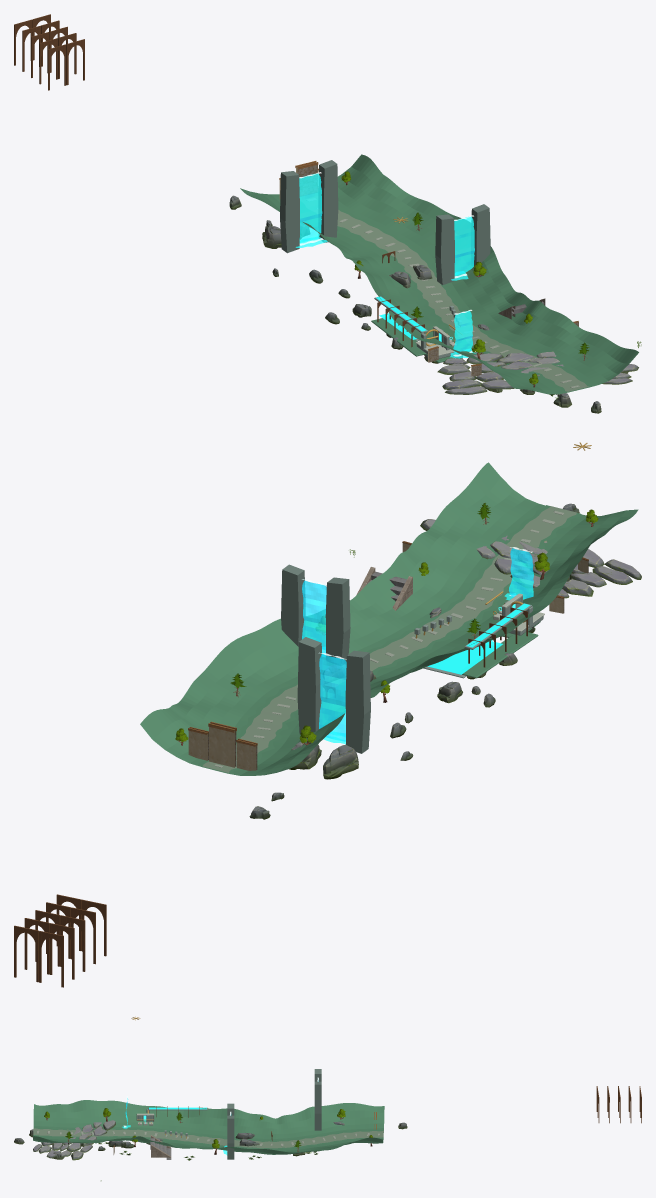
File: premium-waterfall-sanctuary-v2.glb
The picture shows the model from 3 angles, top to bottom: view 1: azimuth 30°, elevation 25°; view 2: azimuth 150°, elevation 25°; view 3: azimuth 270°, elevation 25°; orthographic projection. The views are drawn at different scales.
Visible parts, largest first — view 1: STATIC_BATCH_VALLEY_EARTH, STATIC_BATCH_SANCTUARY_CLIFF_V2, PLAYABLE_NATURAL_TRAIL, RockPath_Round_Wide.001, STATIC_BATCH_Rocks.001, WATERFALL_3, STATIC_BATCH_Rocks, WATERFALL_2, STATIC_BATCH_WATER_LIVING, WATERFALL_1, Wall_Arch.003, Wall_Arch.002 (+1 smaller); view 2: STATIC_BATCH_VALLEY_EARTH, STATIC_BATCH_SANCTUARY_CLIFF_V2, PLAYABLE_NATURAL_TRAIL, RockPath_Round_Wide.001, STATIC_BATCH_Rocks.001, WATERFALL_3, STATIC_BATCH_WATER_LIVING, WATERFALL_2, Wall_UnevenBrick_Straight.005, Wall_Arch.006, WATERFALL_1, Wall_Arch.005 (+5 smaller); view 3: STATIC_BATCH_VALLEY_EARTH, PLAYABLE_NATURAL_TRAIL, RockPath_Round_Wide.001, STATIC_BATCH_SANCTUARY_CLIFF_V2, STATIC_BATCH_Rocks.001, Stairs_Exterior_Straight.001, STATIC_BATCH_Rocks.
Boxes of the visible parts, box(x1,y1,x2,y2) form: STATIC_BATCH_VALLEY_EARTH: box(240, 154, 638, 394); STATIC_BATCH_SANCTUARY_CLIFF_V2: box(280, 160, 490, 285); PLAYABLE_NATURAL_TRAIL: box(300, 193, 588, 391); RockPath_Round_Wide.001: box(437, 351, 638, 394); STATIC_BATCH_Rocks.001: box(229, 195, 560, 396); WATERFALL_3: box(299, 173, 322, 242); STATIC_BATCH_Rocks: box(272, 268, 628, 413); WATERFALL_2: box(454, 216, 474, 275); STATIC_BATCH_WATER_LIVING: box(295, 236, 477, 358); WATERFALL_1: box(453, 311, 472, 353); Wall_Arch.003: box(39, 33, 416, 340); Wall_Arch.002: box(48, 39, 424, 347); STATIC_BATCH_VALLEY_EARTH: box(140, 462, 638, 775); STATIC_BATCH_SANCTUARY_CLIFF_V2: box(281, 564, 370, 753); PLAYABLE_NATURAL_TRAIL: box(203, 506, 576, 772); RockPath_Round_Wide.001: box(420, 519, 641, 598); STATIC_BATCH_Rocks.001: box(249, 626, 535, 819); WATERFALL_3: box(319, 654, 346, 741); STATIC_BATCH_WATER_LIVING: box(322, 593, 529, 744); WATERFALL_2: box(302, 580, 326, 654); Wall_UnevenBrick_Straight.005: box(208, 721, 236, 767); Wall_Arch.006: box(14, 638, 485, 987); WATERFALL_1: box(509, 548, 533, 599); Wall_Arch.005: box(24, 631, 495, 979); STATIC_BATCH_VALLEY_EARTH: box(33, 1100, 384, 1154); PLAYABLE_NATURAL_TRAIL: box(33, 1128, 383, 1148); RockPath_Round_Wide.001: box(33, 1120, 115, 1160); STATIC_BATCH_SANCTUARY_CLIFF_V2: box(227, 1069, 321, 1159); STATIC_BATCH_Rocks.001: box(51, 1121, 407, 1156); Stairs_Exterior_Straight.001: box(150, 1135, 171, 1159); STATIC_BATCH_Rocks: box(14, 1129, 162, 1159).
Size of the model in its own units: 91.42 by 65.13 by 359.
Materials: 26 (16 with a texture image).
